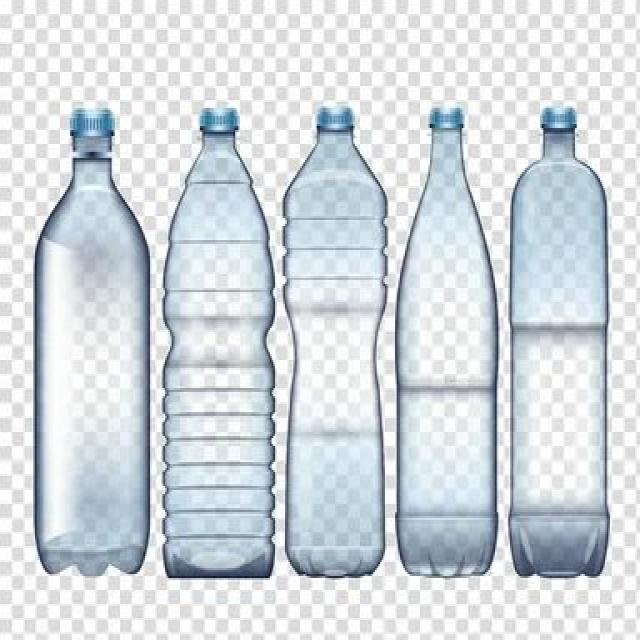blue: (33, 134, 150, 574), (161, 133, 275, 580), (283, 128, 389, 578), (510, 127, 610, 578), (397, 132, 497, 580)
